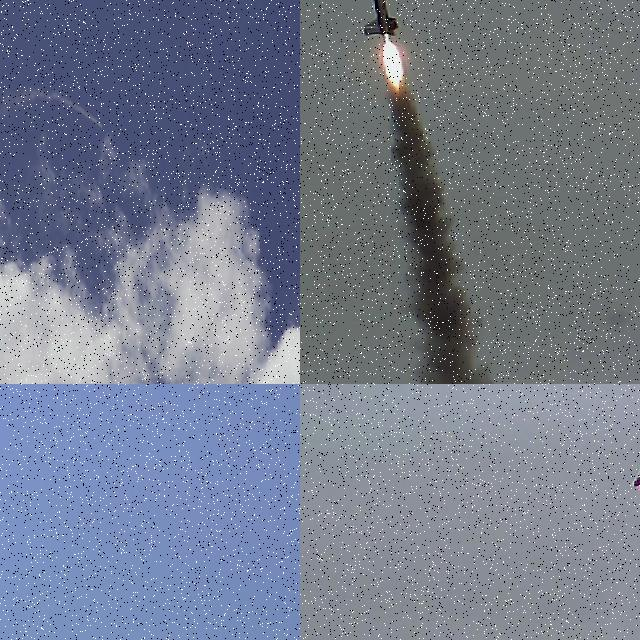Rocket: (359, 0, 399, 37), (631, 423, 640, 489), (45, 596, 52, 599), (102, 125, 104, 128)
